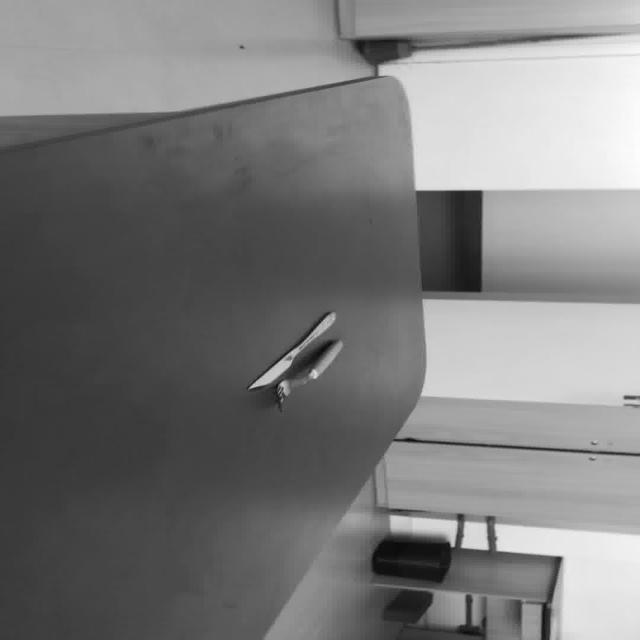fork: (273, 338, 344, 412)
knife fork: (245, 310, 336, 391), (272, 338, 344, 412)
